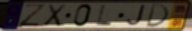0: (72, 4, 93, 28)
D: (144, 3, 170, 28)
J: (125, 4, 146, 27)
L: (95, 5, 113, 27)
X: (41, 4, 68, 28)
Z: (18, 3, 48, 28)
